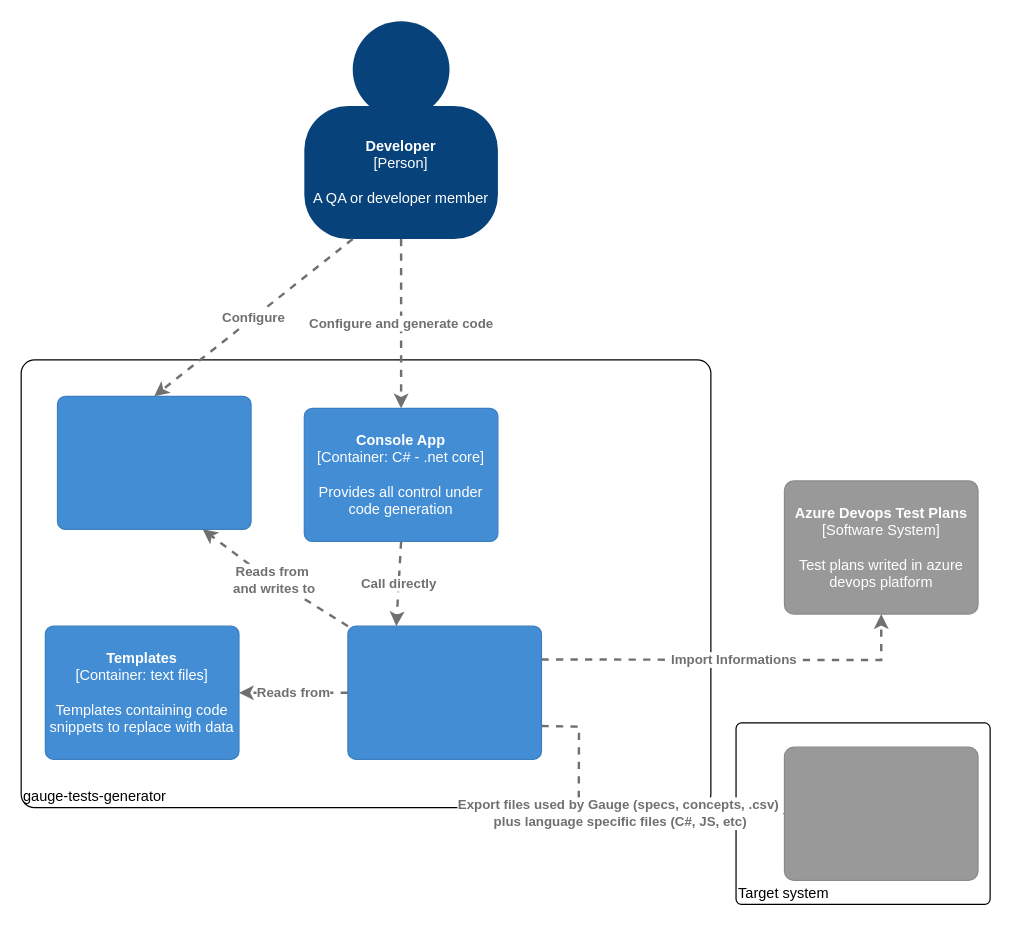
Image size: 1012x926. Some labels were removed from this diagram. The centre of each missing label's shape, as x and y in pixels:
"Configuration [Container: json ] Configure test generation by system" goes at point (153, 462).
"Core [Container: C# - .net standard ] System business rules" goes at point (444, 692).
"Target System [Software System] Any target system to be tested by Gauge" goes at point (880, 813).
